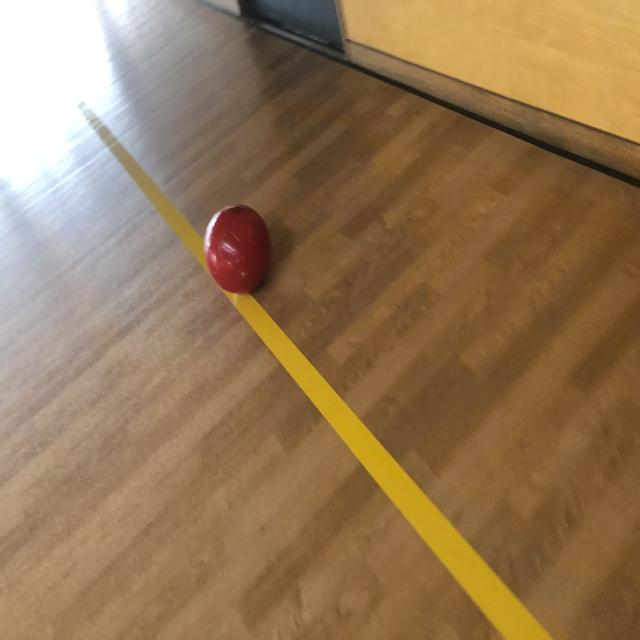red_ball: (205, 203, 272, 293)
